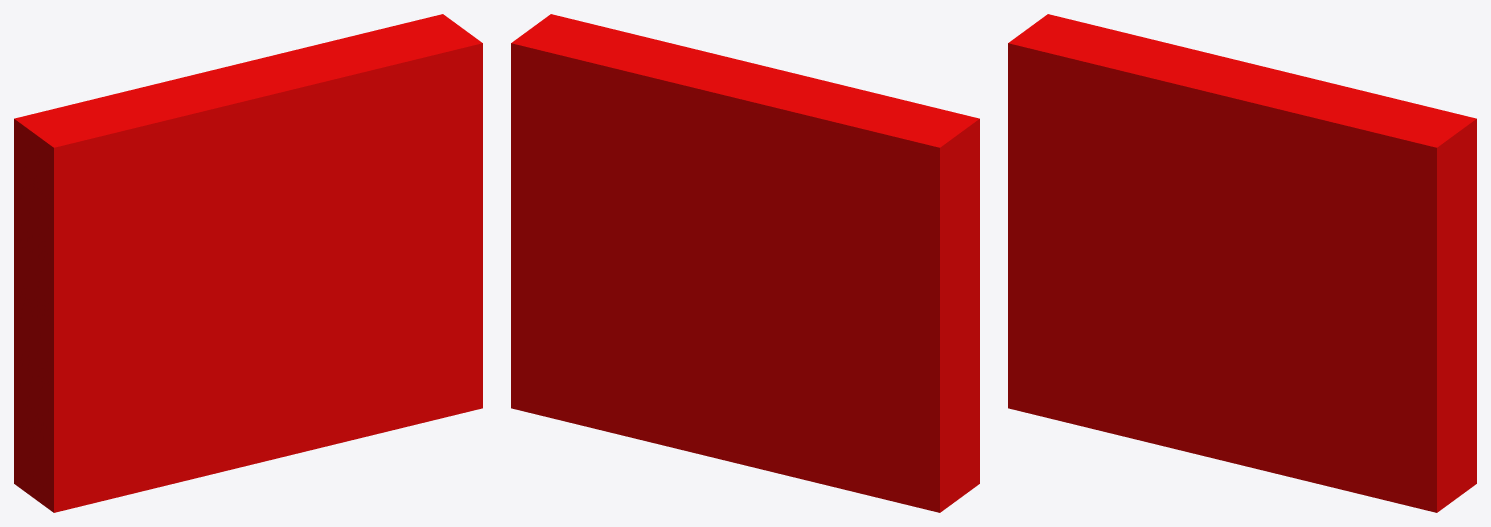
The model's file is l_bofoot_col2.dae.
3 views of the same model, side by side, from view 1: azimuth 30°, elevation 25°; view 2: azimuth 150°, elevation 25°; view 3: azimuth 330°, elevation 25° (orthographic).
Visible parts, largest first — view 1: node0; view 2: node0; view 3: node0.
Part boxes in pixels (x1,y1,x2,y2): node0: (14, 14, 482, 512); node0: (511, 14, 979, 512); node0: (1008, 14, 1476, 512).
Size of the model in its own units: 0.1129 by 0.0182 by 0.0918.
